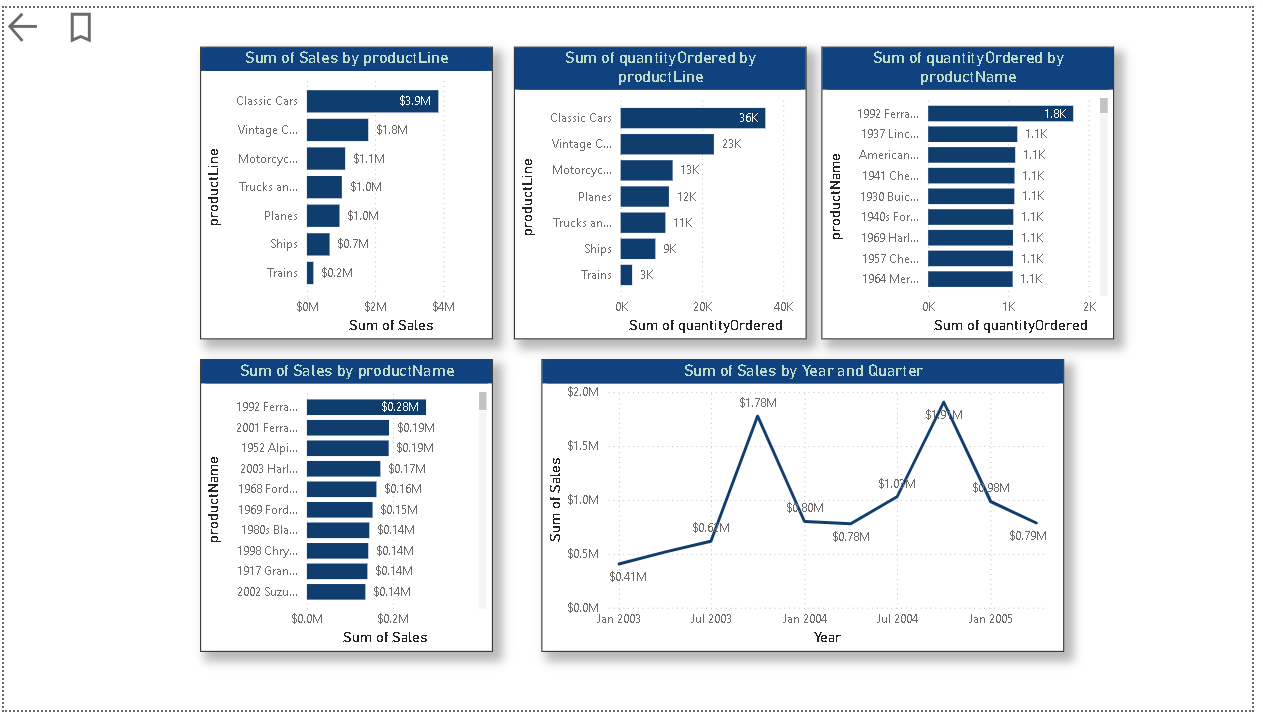

The page's visual inventory and layout, read from the dashboard file:
{"tool":"powerbi","page":{"name":"Detailed view","canvas":[1280,720],"ordinal":2},"visuals":[{"type":"actionButton","box":[0,0,41,39.7],"z":0},{"type":"barChart","fields":{"Category":["productlines.productLine"],"Y":["Sum(order details.Sales)"]},"box":[201.3,39.7,300,300],"z":1000},{"type":"barChart","fields":{"Category":["productlines.productLine"],"Y":["Sum(order details.quantityOrdered)"]},"box":[523.1,39.7,300,300],"z":2000},{"type":"barChart","fields":{"Y":["Sum(order details.Sales)"],"Category":["products.productName"]},"box":[201.3,360.3,300,300],"z":3000},{"type":"barChart","fields":{"Y":["Sum(order details.quantityOrdered)"],"Category":["products.productName"]},"box":[838.5,39.7,300,300],"z":4000},{"type":"lineChart","fields":{"Category":["orders.orderDate.Variation.Date Hierarchy.Year","orders.orderDate.Variation.Date Hierarchy.Quarter","orders.orderDate.Variation.Date Hierarchy.Month","orders.orderDate.Variation.Date Hierarchy.Day"],"Y":["Sum(order details.Sales)"]},"box":[551.3,360.3,535.9,300],"z":5000},{"type":"actionButton","box":[59,0,42.3,39.7],"z":6000}]}

Visuals, with their boxes in screenshot pixels (x1, y1, x2, y2):
actionButton: bbox=(0, 3, 40, 42)
barChart - productlines.productLine x Sum(order details.Sales): bbox=(196, 42, 488, 334)
barChart - productlines.productLine x Sum(order details.quantityOrdered): bbox=(509, 42, 801, 334)
barChart - Sum(order details.Sales) x products.productName: bbox=(196, 354, 488, 646)
barChart - Sum(order details.quantityOrdered) x products.productName: bbox=(816, 42, 1108, 334)
lineChart - orders.orderDate.Variation.Date Hierarchy.Year x orders.orderDate.Variation.Date Hierarchy.Quarter: bbox=(536, 354, 1058, 646)
actionButton: bbox=(57, 3, 99, 42)
